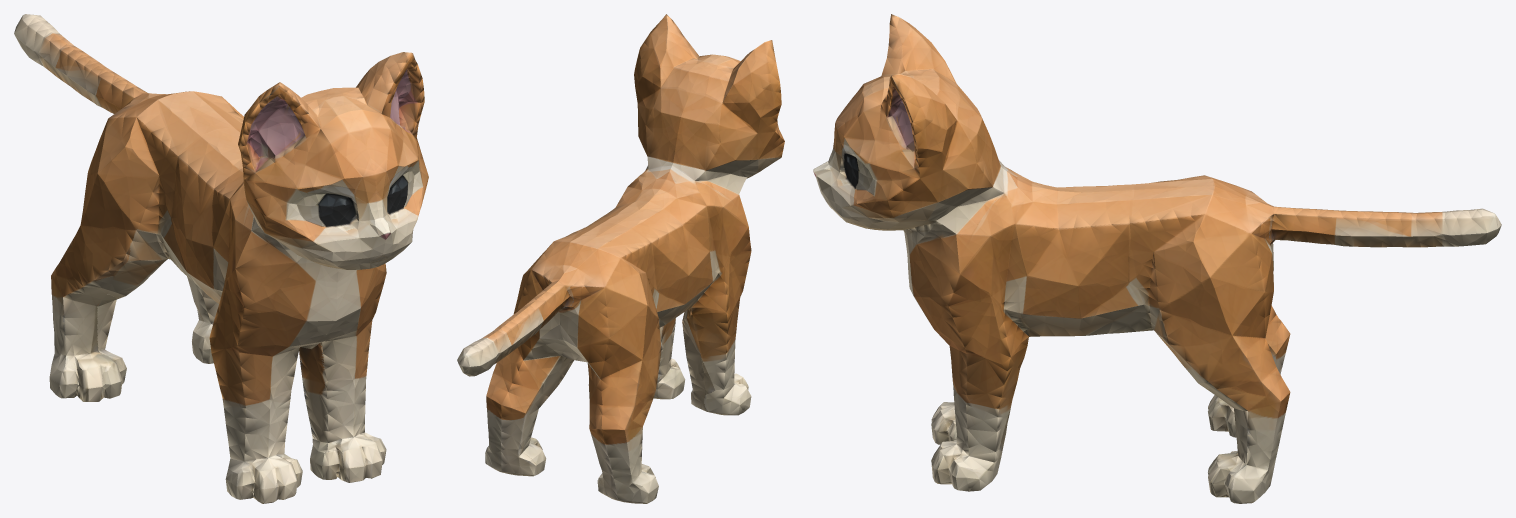
File: Cat_Game_LOD0_Standing.glb
The picture shows the model from 3 angles, left to right: view 1: azimuth 30°, elevation 25°; view 2: azimuth 150°, elevation 25°; view 3: azimuth 270°, elevation 25°; orthographic projection. The views are drawn at different scales.
Parts seen in each view (by area): view 1: Cat_LOD0; view 2: Cat_LOD0; view 3: Cat_LOD0.
Boxes of the visible parts, bbox=[...] form: Cat_LOD0: bbox=[14, 14, 428, 503]; Cat_LOD0: bbox=[457, 14, 784, 503]; Cat_LOD0: bbox=[813, 14, 1501, 503].
Bounding box in the file's own units: 0.3276 × 0.6577 × 0.9893.
Materials: 1 (1 with a texture image).
